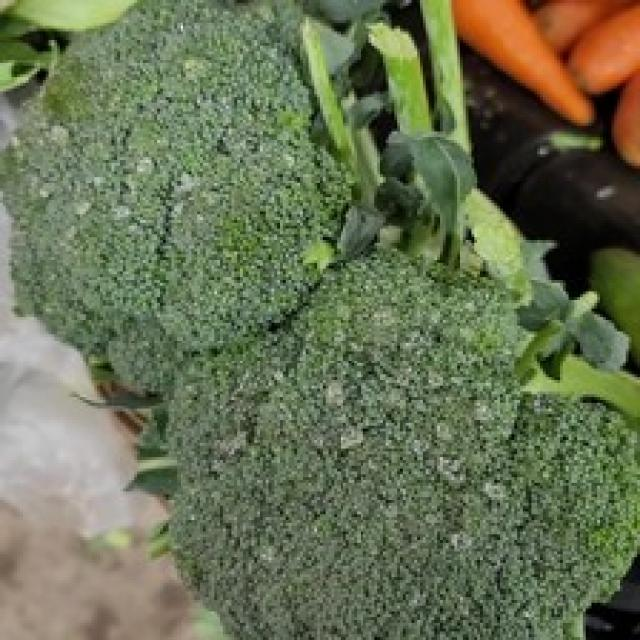Broccoli: (6, 1, 640, 640), (11, 1, 640, 640)
